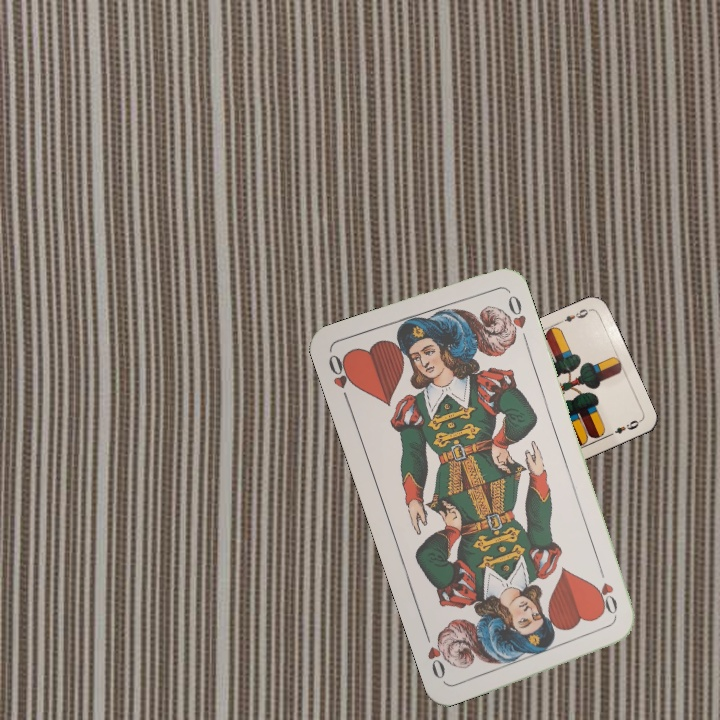E9: (554, 305, 593, 326)
HO: (324, 350, 357, 407), (594, 564, 620, 622)
